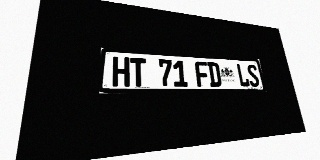1: (172, 60, 188, 87)
7: (158, 59, 174, 87)
D: (207, 62, 222, 87)
F: (194, 61, 210, 87)
H: (112, 56, 130, 87)
L: (236, 64, 250, 87)
S: (246, 64, 260, 87)
T: (130, 57, 147, 87)
